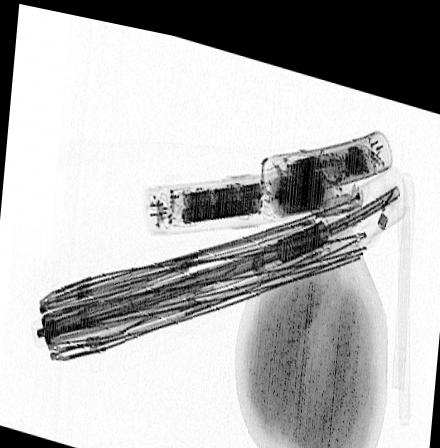Baton: (142, 133, 363, 228), (260, 114, 393, 186)
